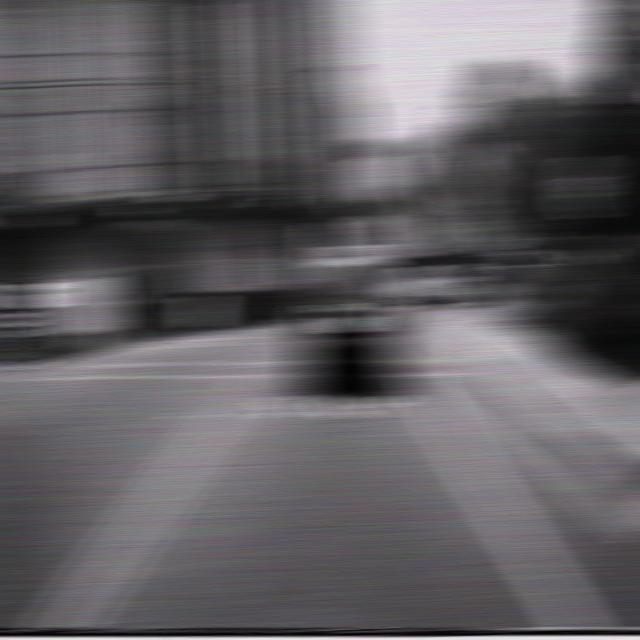stop_sign: (558, 154, 612, 220)
